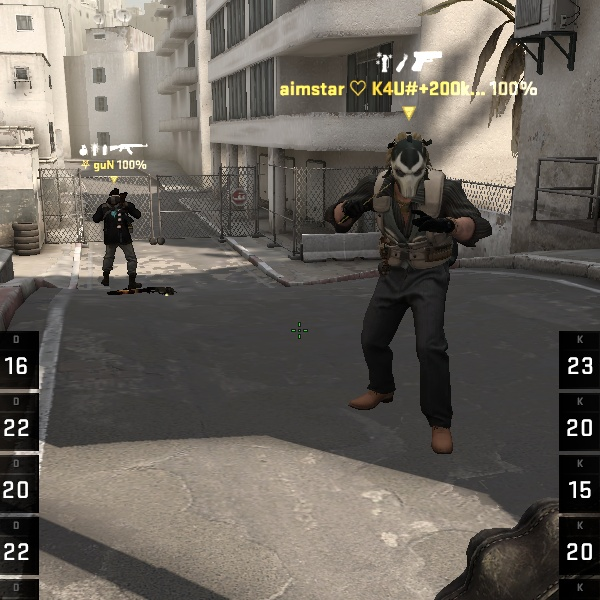t_body: (327, 129, 498, 448), (87, 183, 149, 296)
t_head: (375, 131, 445, 201)
